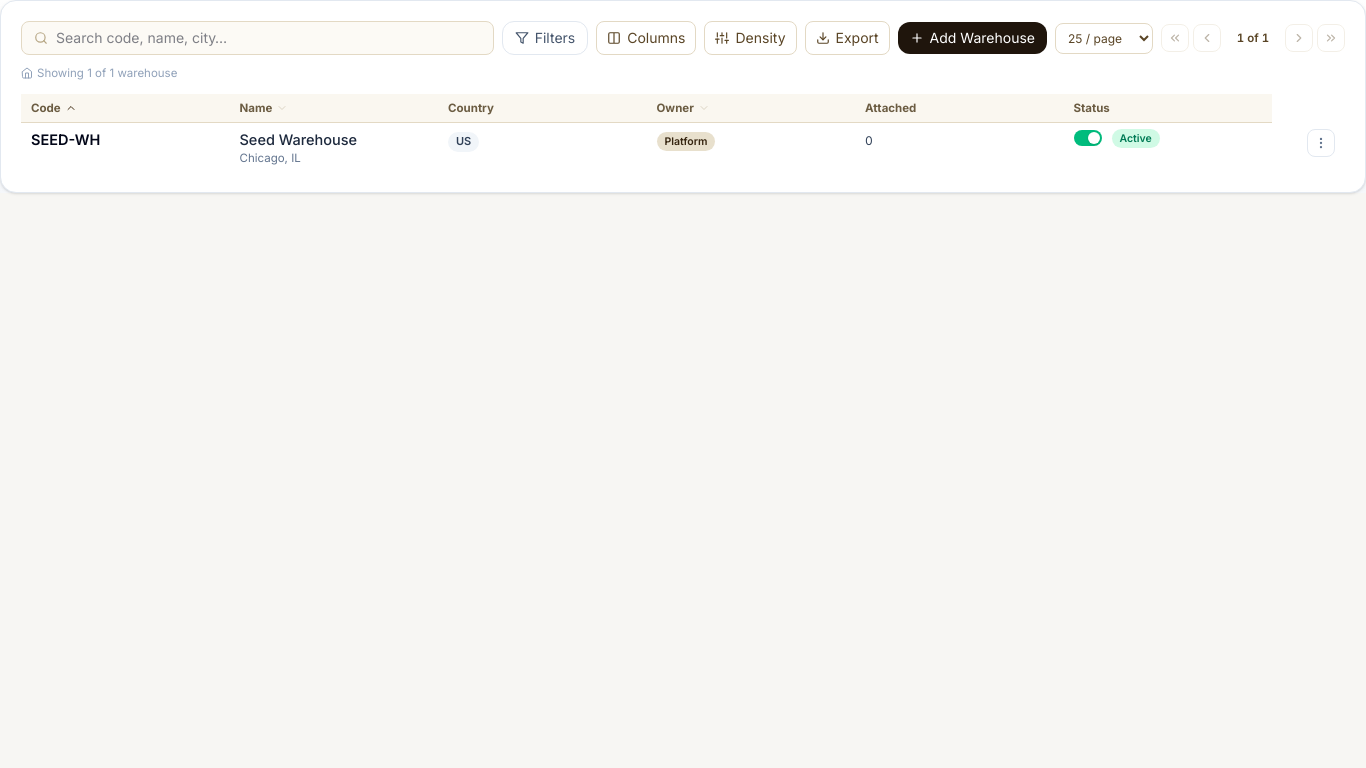
Test: WarehousesPage · Filters · positive › renders the search input and reveals both filter dropdowns when opened
Check: the field with placeholder "Search code, name, city…" is shown, box [56,28,481,48]
Click the button "Filters". click: [545, 38]
box: [502,21,588,55]
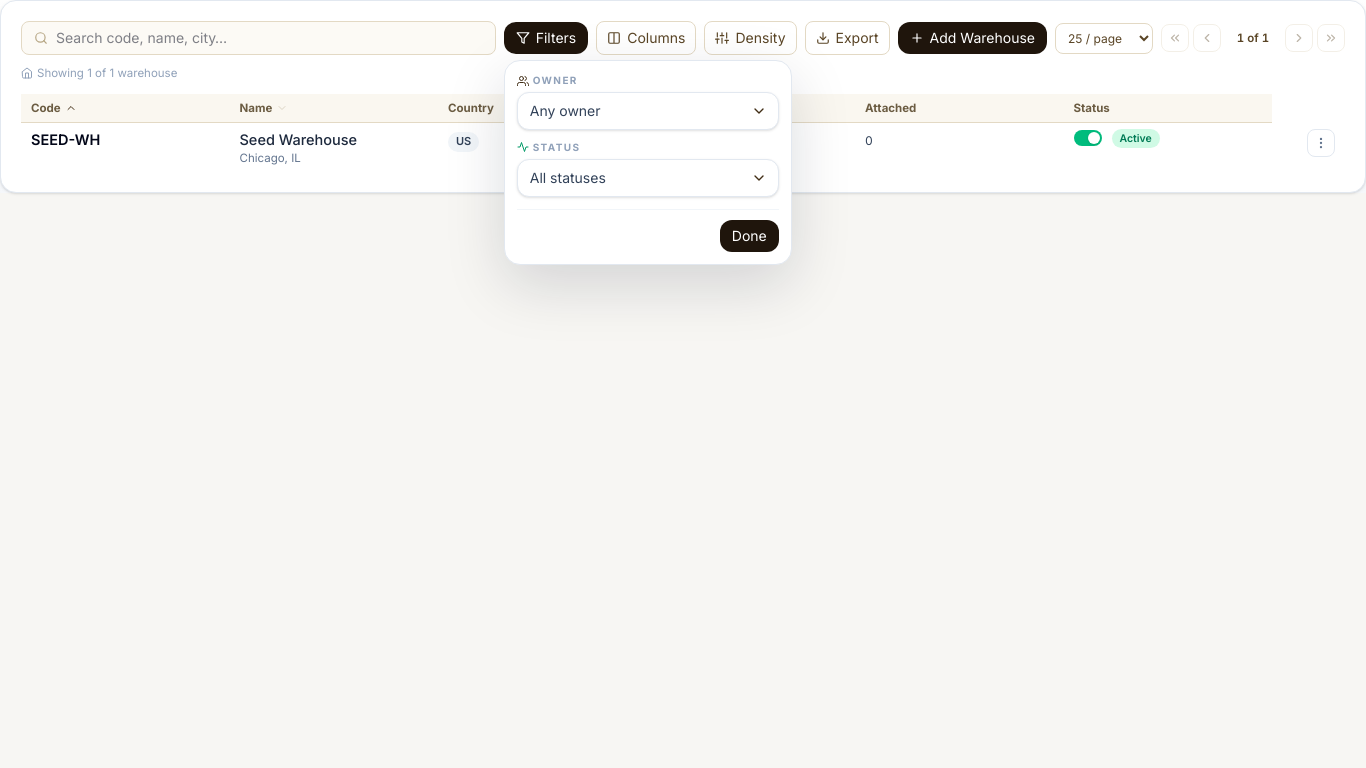
Check: the dropdown named "Filter by owner type" is shown, box [517,92,779,130]
Check: the dropdown named "Filter by active status" is shown, box [517,159,779,197]
Check: the button "Done" is shown, box [720,220,779,252]
